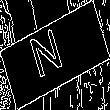N_S: (35, 24, 75, 86)
